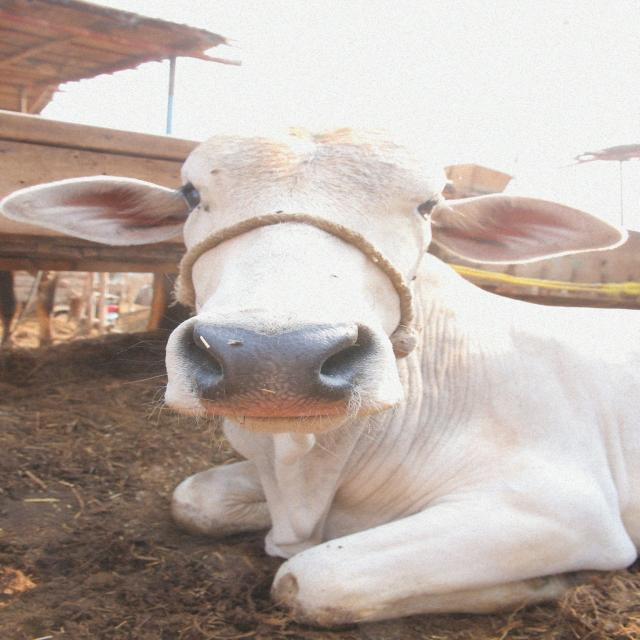muzzles: (165, 304, 399, 426)
